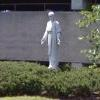Statue: (35, 5, 70, 77)
